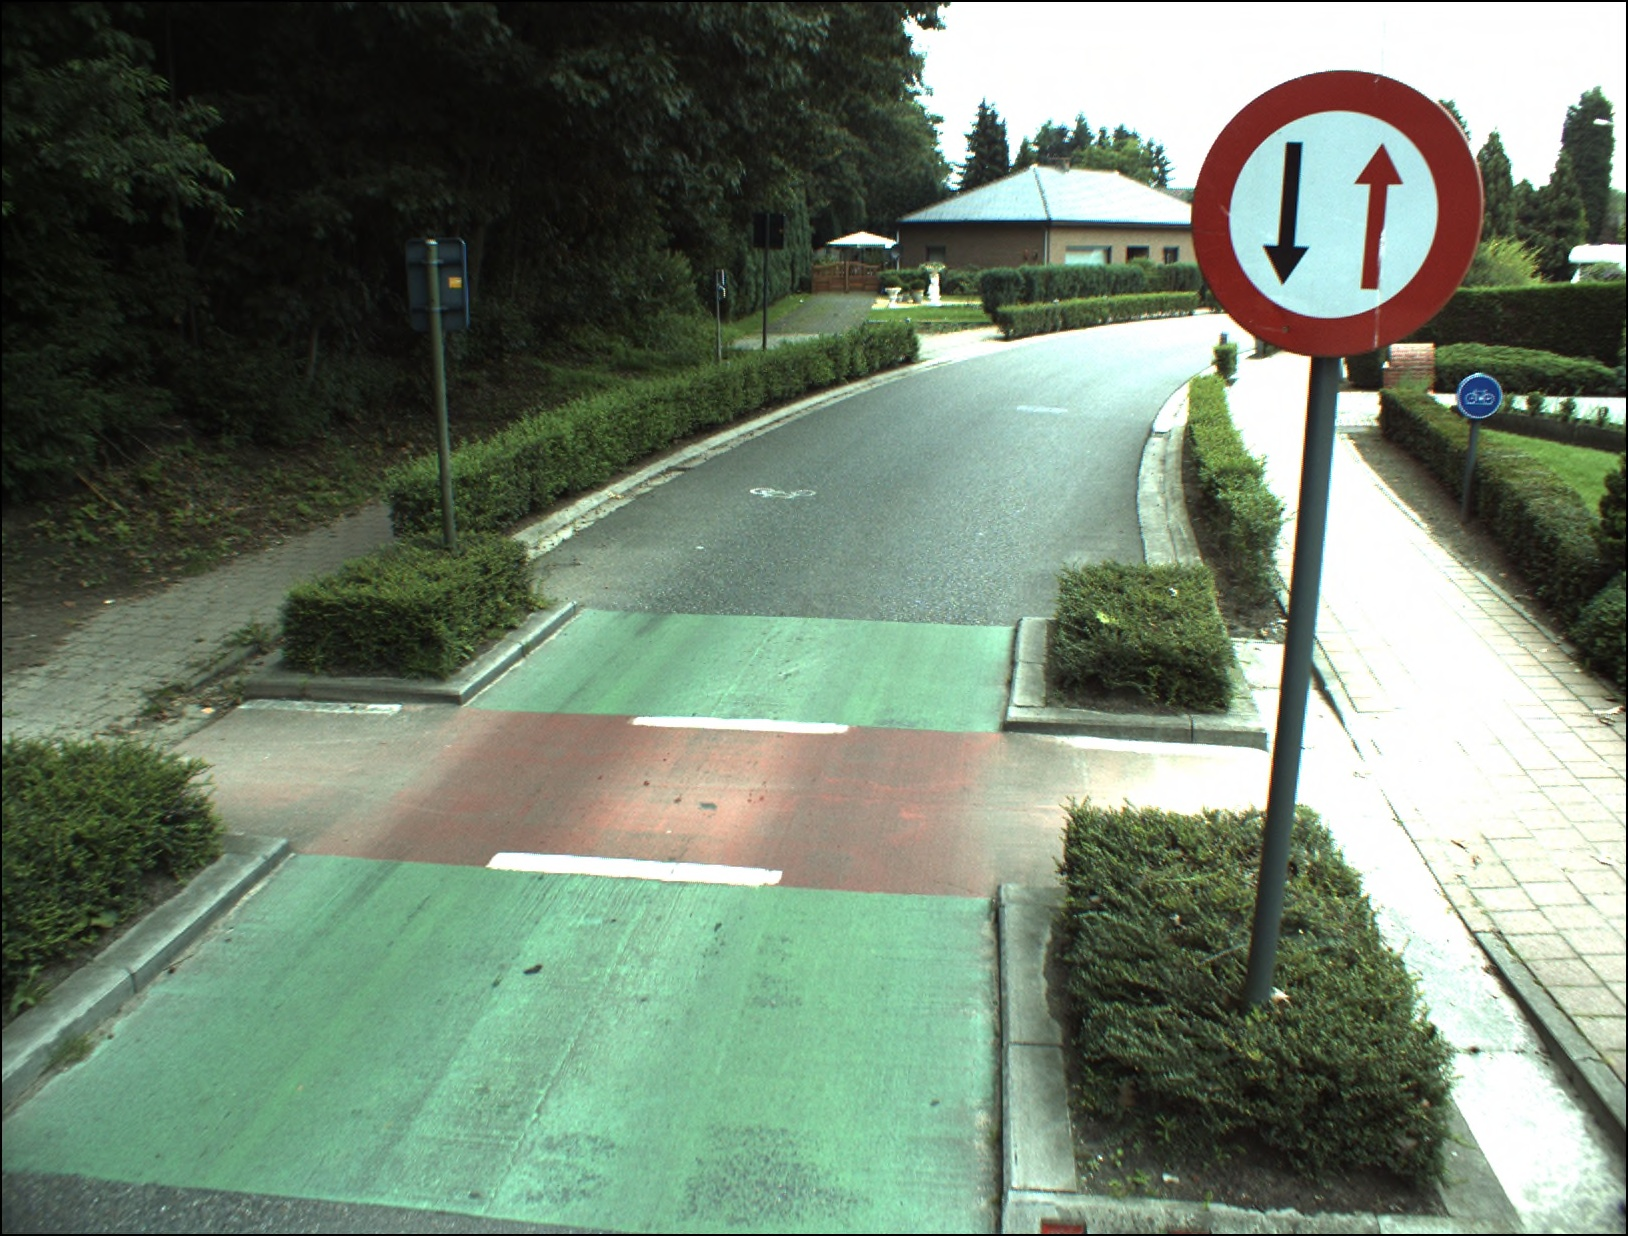roadnarrow2: (1190, 66, 1484, 354)
